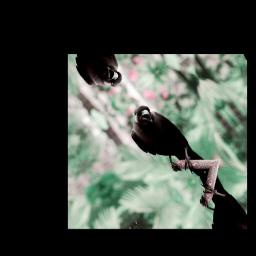Crow: (118, 94, 211, 194)
